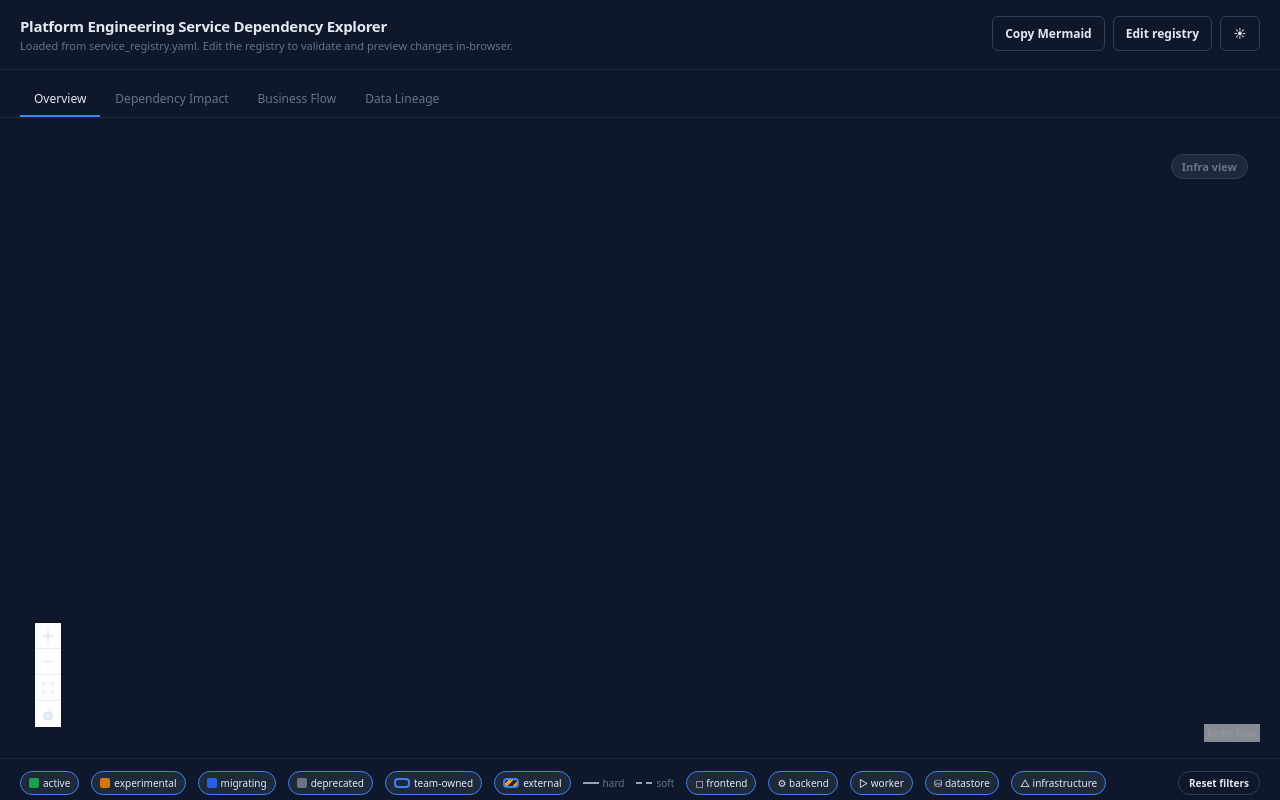
Test case: CatalogView › supports selecting services in impact mode and toggling direction
The image size is (1280, 800).
Click the button "Dependency Impact": click(172, 100) [101,82,243,117]
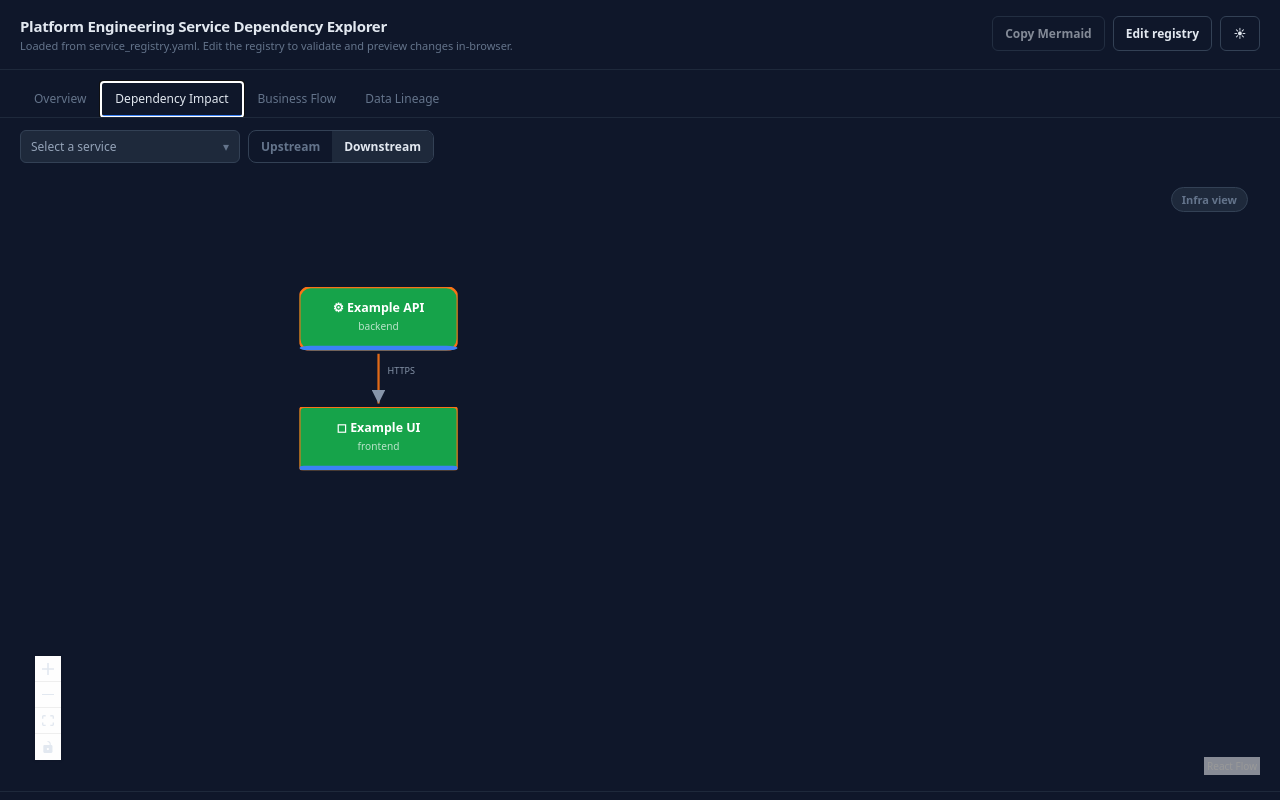
Click the button "Select a service ▾": click(130, 146) [20,130,240,163]
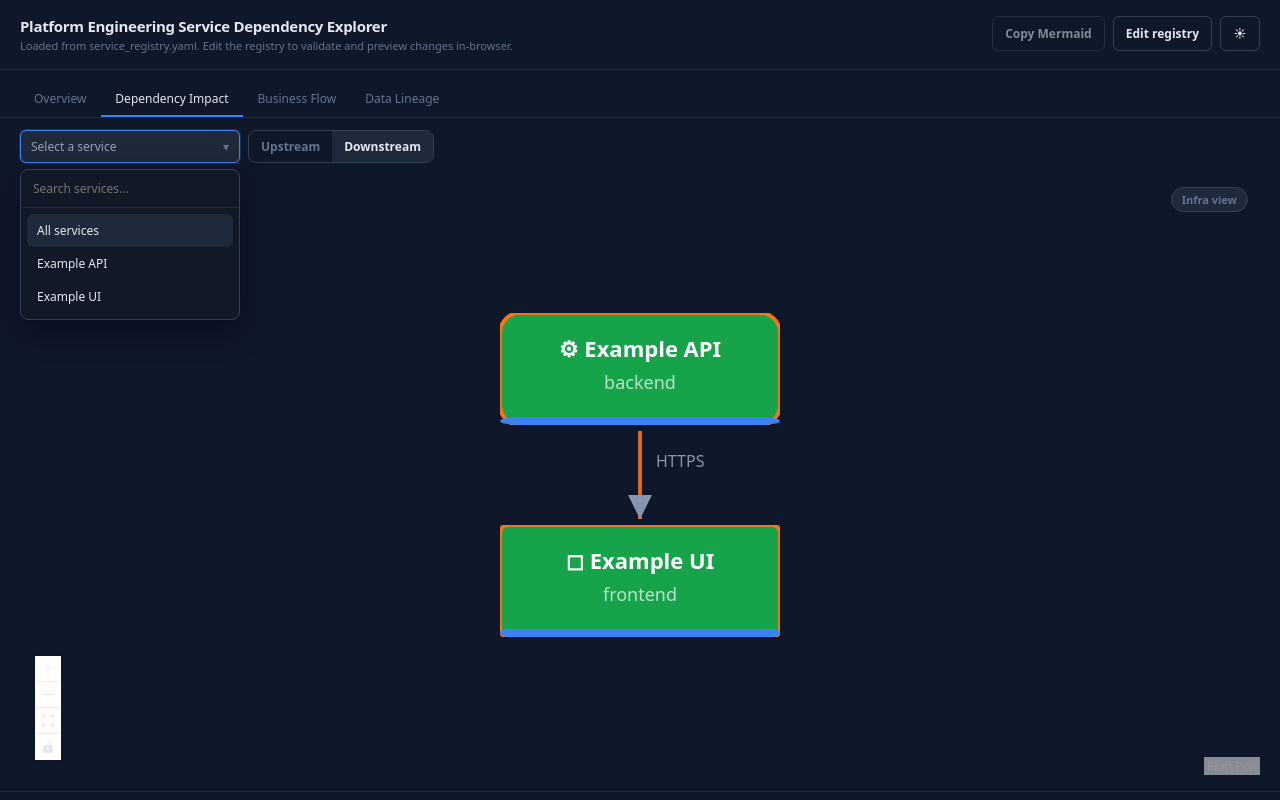
Click the button "Example UI": click(130, 296) [27,280,233,313]
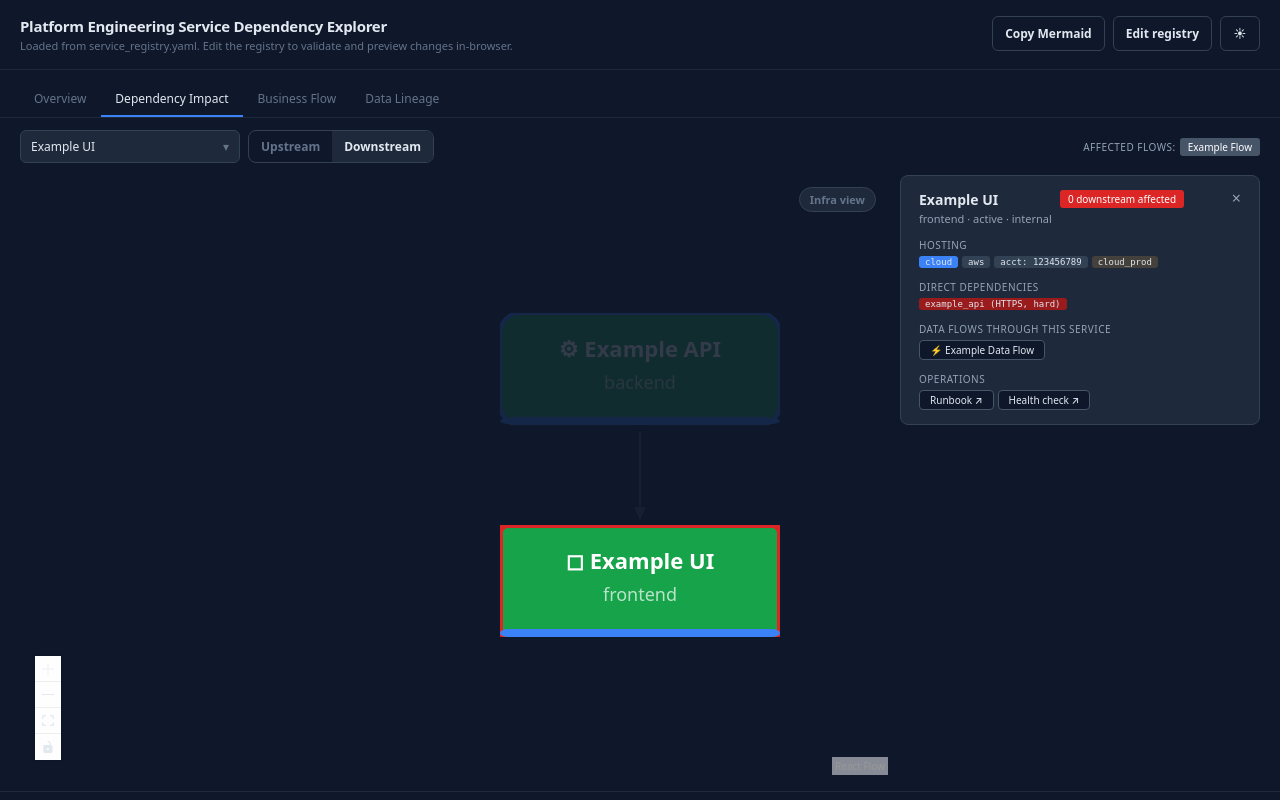
Now the text "Direct dependencies" is shown, box [919,280,1039,294]
Click the button "Upstream": click(291, 146) [249,131,332,162]
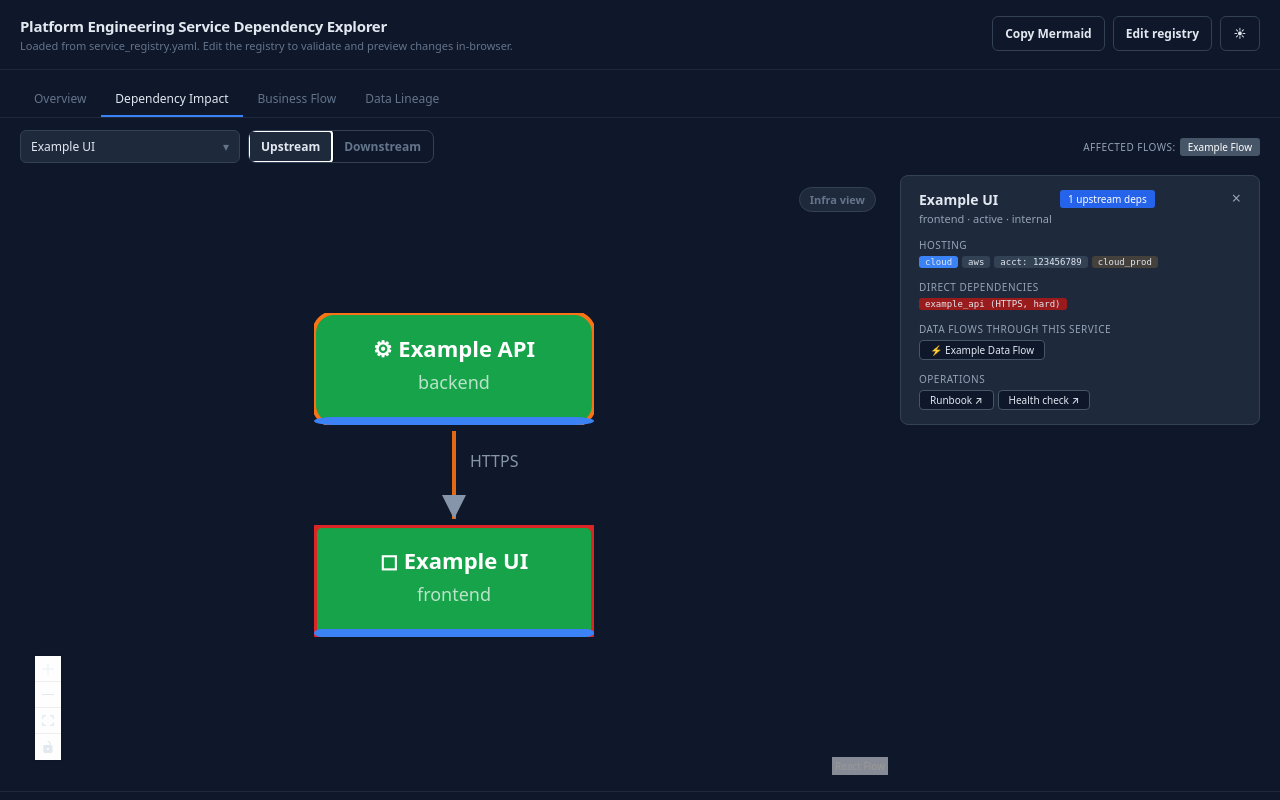
Now the text "1 upstream deps" is shown, box [1060,190,1155,208]
